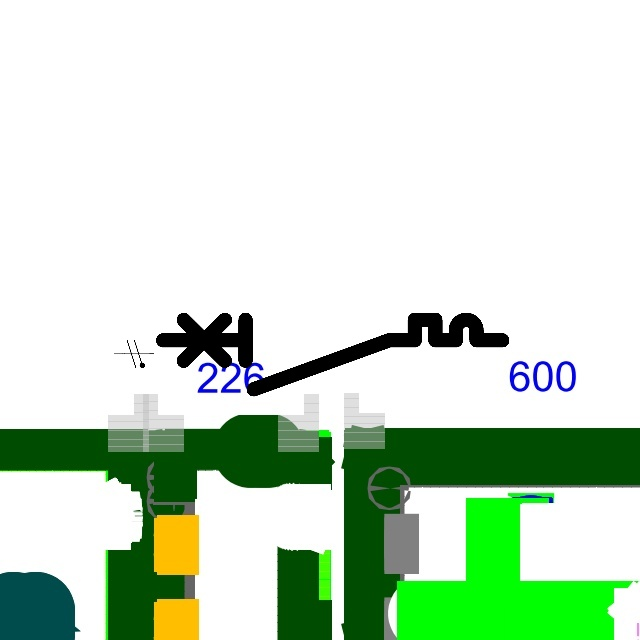interruptor_termomagnetico: (154, 311, 510, 398)
